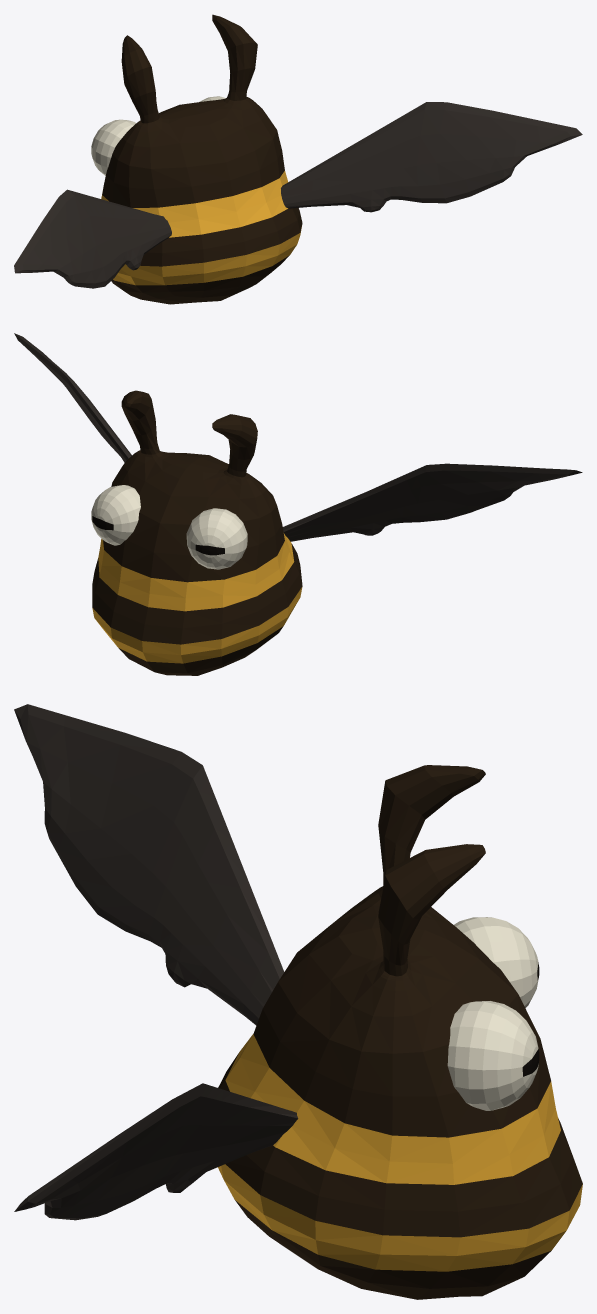
Rendered from beetle.glb.
3 views of the same model, one above another, from view 1: azimuth 30°, elevation 25°; view 2: azimuth 150°, elevation 25°; view 3: azimuth 270°, elevation 25° (orthographic). The views are drawn at different scales.
Parts seen in each view (by area): view 1: beetle_body; view 2: beetle_body; view 3: beetle_body.
Part boxes in pixels (bbox=[...]): beetle_body: bbox=[14, 14, 582, 304]; beetle_body: bbox=[14, 333, 582, 675]; beetle_body: bbox=[14, 704, 582, 1299].
Size of the model in its own units: 1.83 by 0.8 by 0.8734.
1 material, 1 textured.
